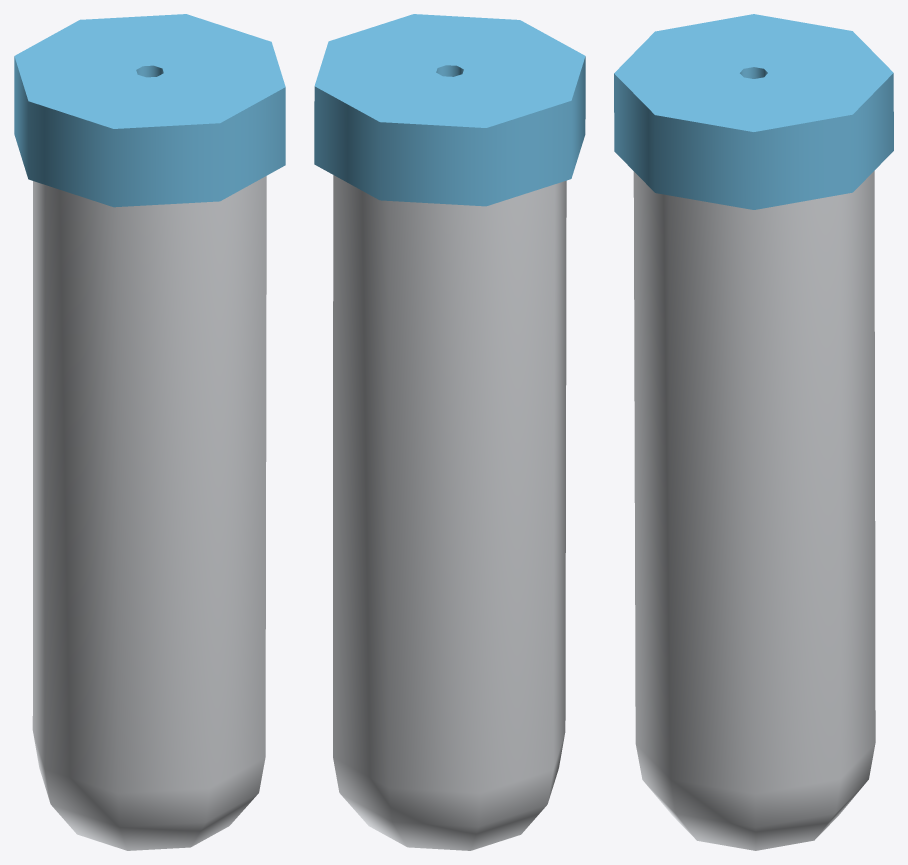
File: machine_centrifuge_tube.glb
3 renders of one model, left to right at view 1: azimuth 30°, elevation 25°; view 2: azimuth 150°, elevation 25°; view 3: azimuth 270°, elevation 25°, orthographic.
Parts seen in each view (by area): view 1: machine_centrifuge_tube; view 2: machine_centrifuge_tube; view 3: machine_centrifuge_tube.
Part boxes in pixels (<box>): machine_centrifuge_tube: <box>14,14,285,850</box>; machine_centrifuge_tube: <box>314,14,585,850</box>; machine_centrifuge_tube: <box>614,14,893,850</box>.
Bounding box in the file's own units: 2.27 × 6.66 × 2.27.
2 materials, 2 textured.
